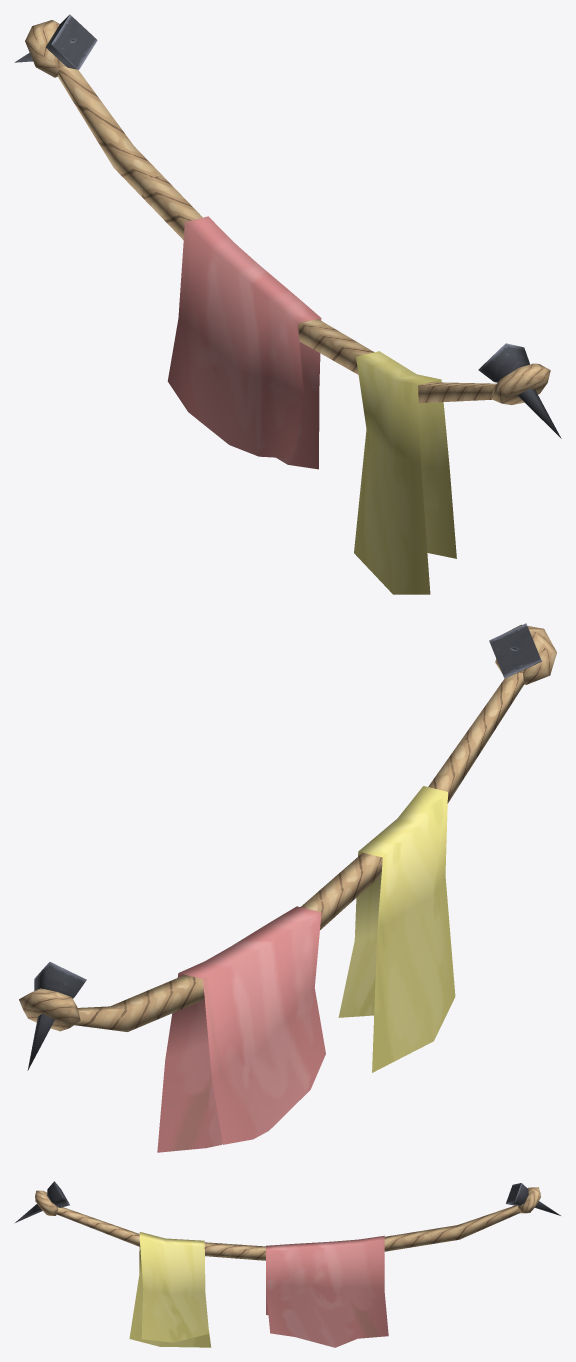
Rendered from SM_PROP_clothesline_02.fbx.
3 renders of one model, top to bottom at view 1: azimuth 30°, elevation 25°; view 2: azimuth 150°, elevation 25°; view 3: azimuth 270°, elevation 25°, orthographic. The views are drawn at different scales.
Visible parts, largest first — view 1: SM_PROP_clothesline_02; view 2: SM_PROP_clothesline_02; view 3: SM_PROP_clothesline_02.
Part boxes in pixels (<box>): SM_PROP_clothesline_02: <box>14,14,561,594</box>; SM_PROP_clothesline_02: <box>19,623,556,1152</box>; SM_PROP_clothesline_02: <box>14,1181,560,1347</box>.
Bounding box in the file's own units: 20.17 × 98.82 × 290.
